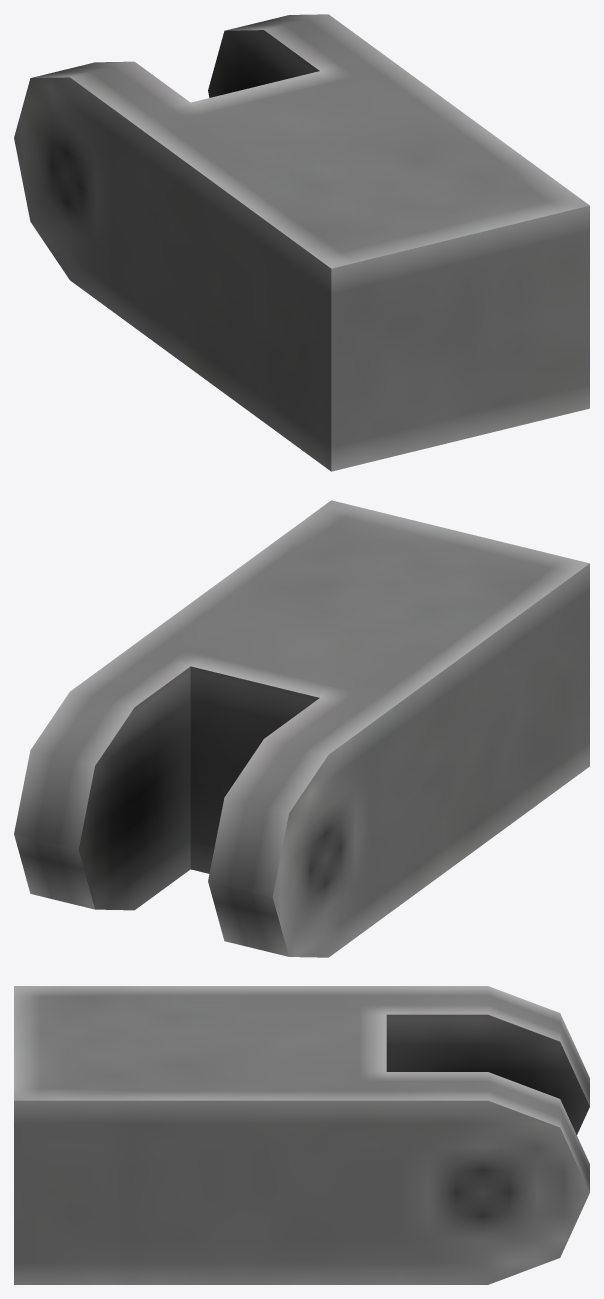
Rendered from luna3_top_antenna_base.obj.
The picture shows the model from 3 angles, top to bottom: view 1: azimuth 30°, elevation 25°; view 2: azimuth 150°, elevation 25°; view 3: azimuth 270°, elevation 25°; orthographic projection. The views are drawn at different scales.
Parts seen in each view (by area): view 1: base; view 2: base; view 3: base.
Part boxes in pixels (<box>): base: <box>14,14,589,471</box>; base: <box>14,500,589,957</box>; base: <box>14,986,589,1284</box>.
Bounding box in the file's own units: 0.05 × 0.0375 × 0.1063.
Materials: 1 (1 with a texture image).
